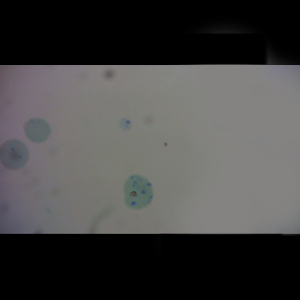punctate reticulocyte: (123, 173, 155, 211), (1, 138, 31, 171), (24, 117, 52, 144)
